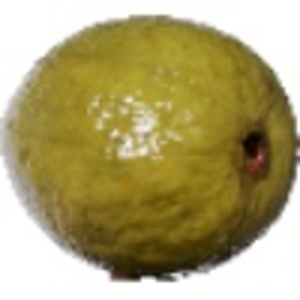goiaba: (5, 3, 297, 273)
